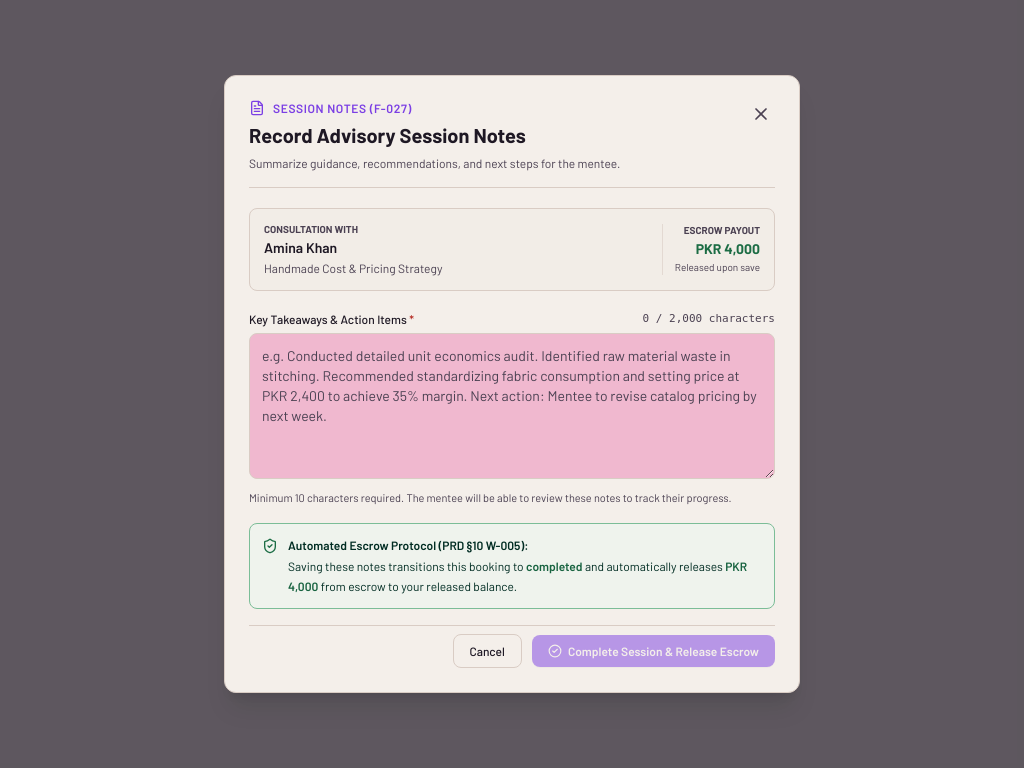
Test: SessionNotesModal (Task 43 / F-027) › disables submit button when note text is under 10 characters
The width and height of the screenshot is (1024, 768).
Expected: the button with test id "submit-session-notes-btn" is disabled, left=532, top=636, right=775, bottom=668
Replace the text in the text box with test id "session-notes-textarea" with "Short" at (512, 406), box left=249, top=333, right=775, bottom=479
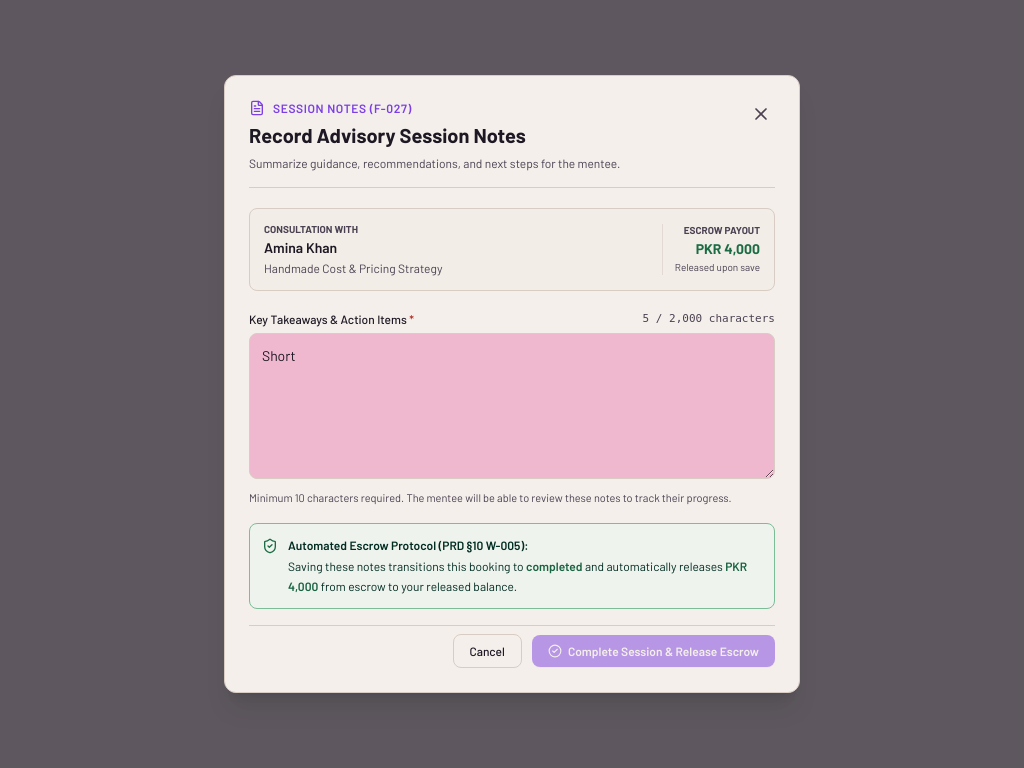
Expected: the button with test id "submit-session-notes-btn" is disabled, left=532, top=636, right=775, bottom=668
Expected: the text "5 / 2,000 characters" is shown, left=642, top=312, right=775, bottom=326
